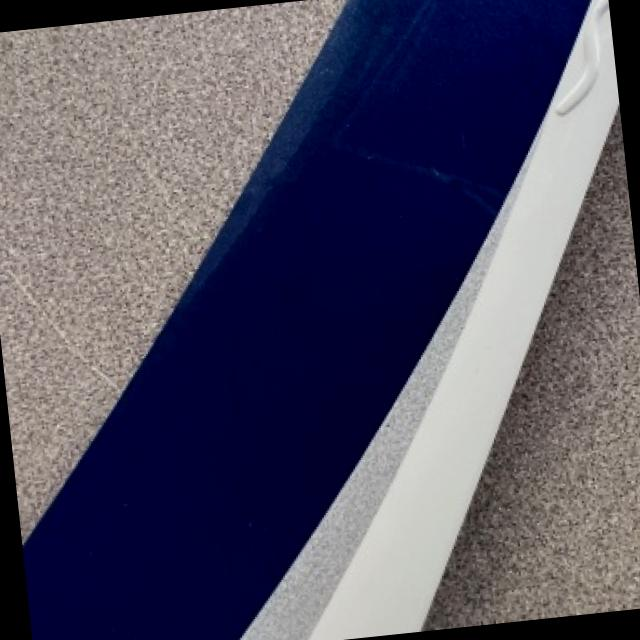healthy: (24, 0, 619, 640)
